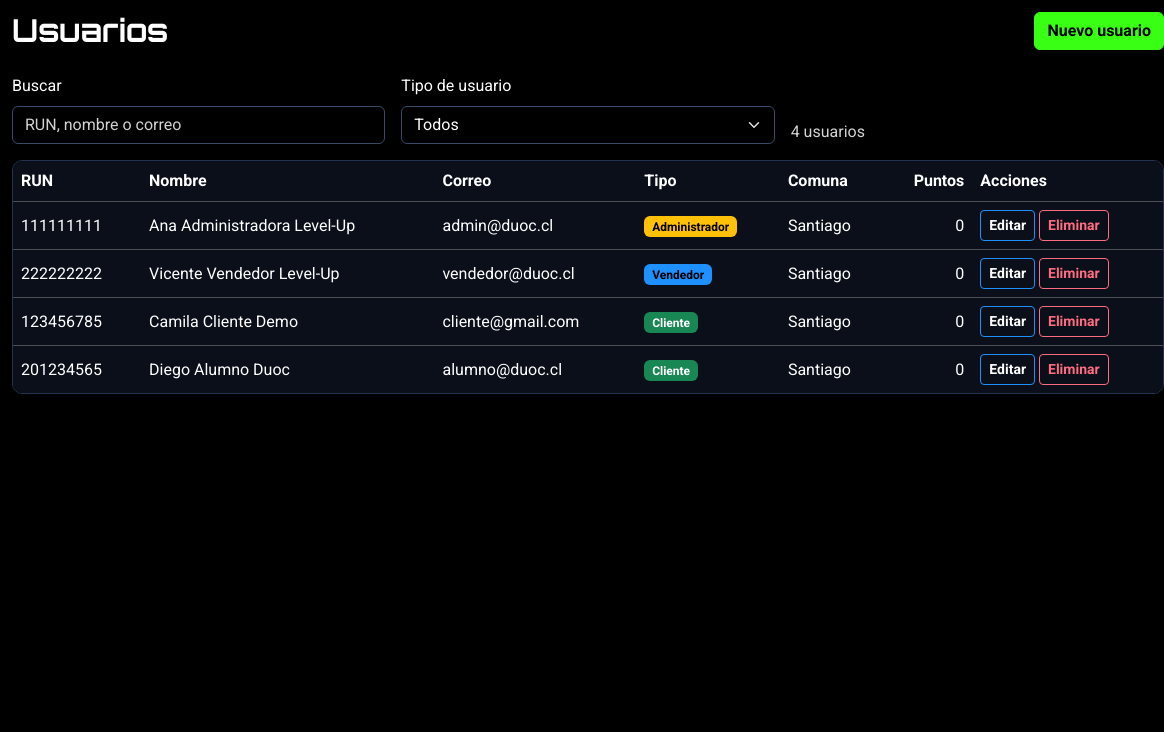
Test case: UsuariosAdmin › no permite eliminar la propia cuenta
Click the button "Eliminar" in the row of "111111111". click: (1074, 226)
box: [1039, 210, 1109, 241]
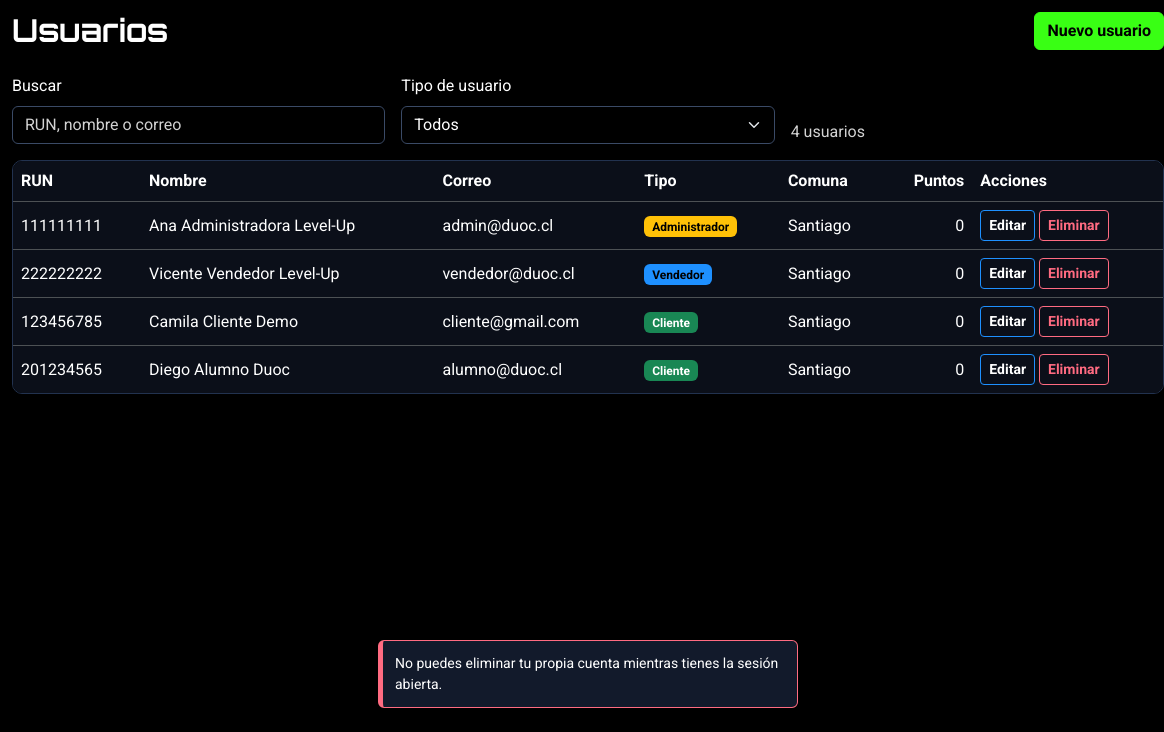
Expected: the text "No puedes eliminar tu propia cuenta mientras tienes la sesión abierta." is shown, [395, 655, 778, 692]
